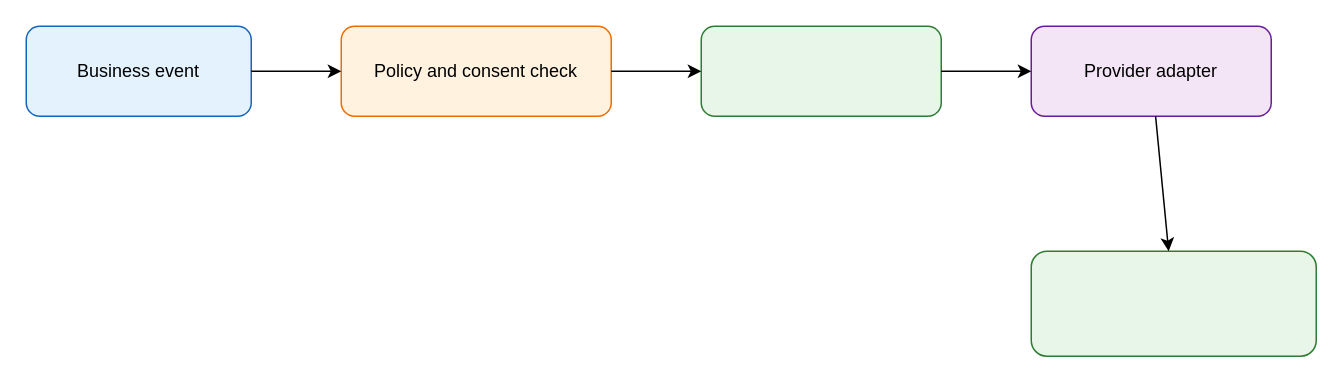
Image size: 1343x383. Some labels were removed from this diagram. Here are the shapes that lost their labels. From the top down, the box of each, then its label:
(700, 25, 941, 116): Render template
(1030, 250, 1316, 356): Delivery log and retry state
